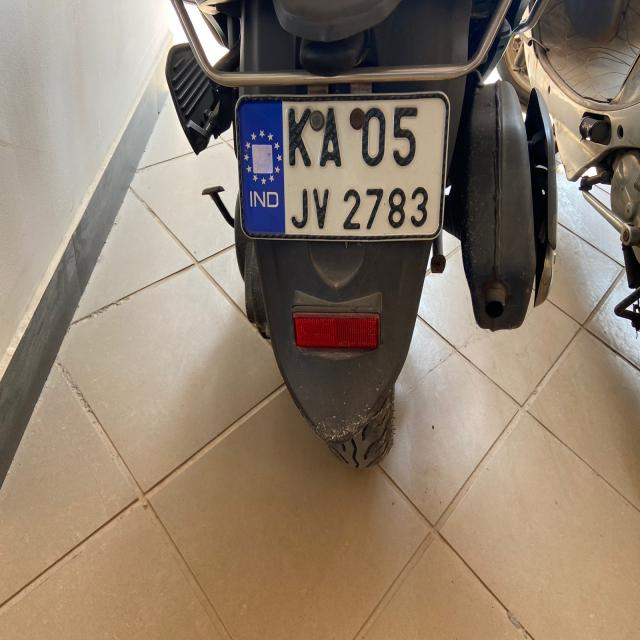0: (359, 100, 386, 171)
3: (410, 180, 434, 230)
5: (391, 103, 421, 172)
7: (362, 183, 386, 233)
8: (387, 186, 408, 232)
A: (313, 100, 346, 171)
J: (288, 182, 314, 228)
K: (283, 103, 316, 173)
V: (310, 182, 336, 230)
